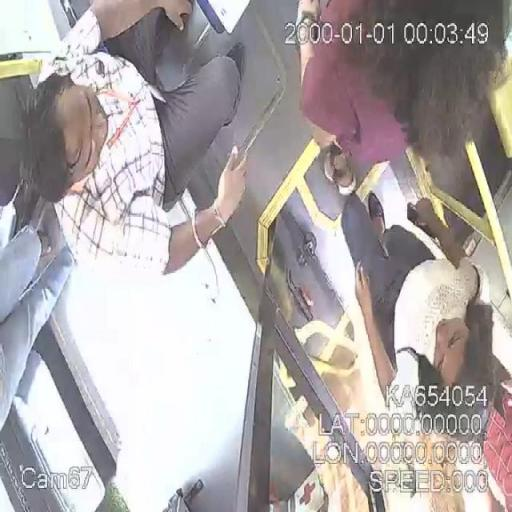persona: (18, 1, 250, 279), (336, 192, 512, 442), (293, 1, 512, 174), (3, 224, 73, 440)
